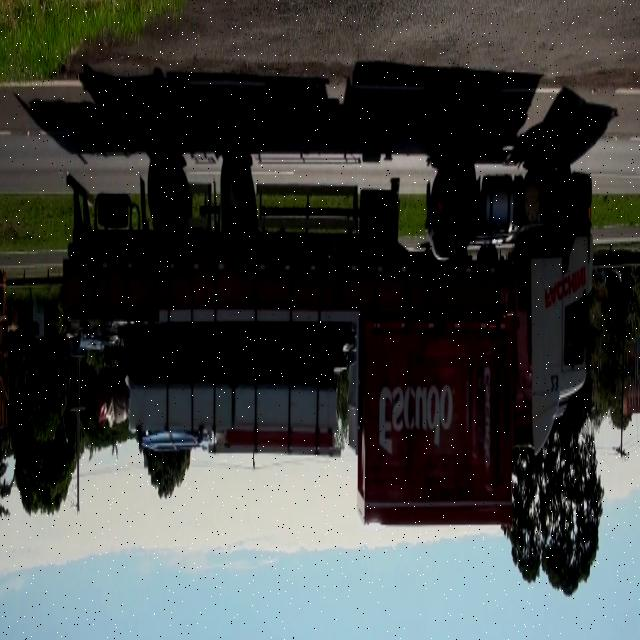-axle: (220, 140, 255, 227), (148, 142, 182, 227), (443, 149, 476, 234), (545, 148, 575, 226)
